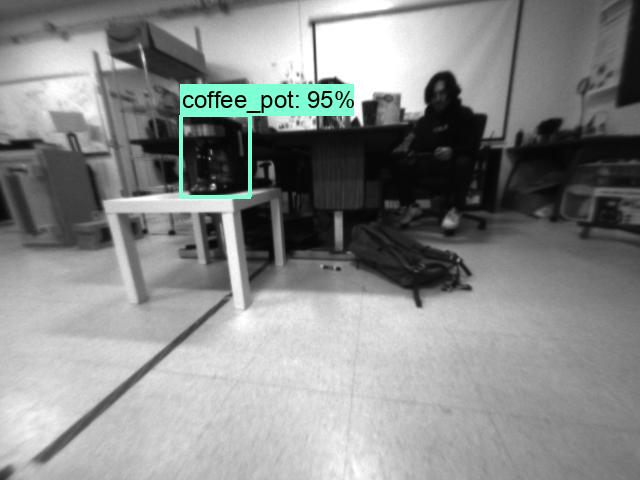coffee_pot: (176, 113, 250, 200)
